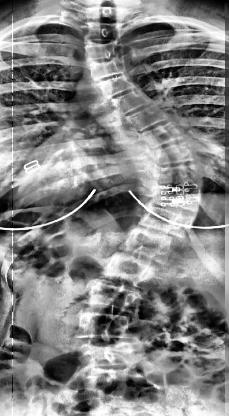Vertebrae: (70, 338, 144, 372), (64, 364, 132, 398), (114, 225, 178, 261), (87, 280, 145, 318), (76, 311, 138, 343), (104, 253, 162, 287), (133, 208, 197, 238), (142, 184, 209, 212), (150, 160, 204, 192), (146, 139, 200, 167), (123, 102, 173, 130), (139, 120, 185, 148), (92, 74, 140, 100), (106, 88, 154, 112), (81, 58, 125, 78), (82, 42, 120, 62)
